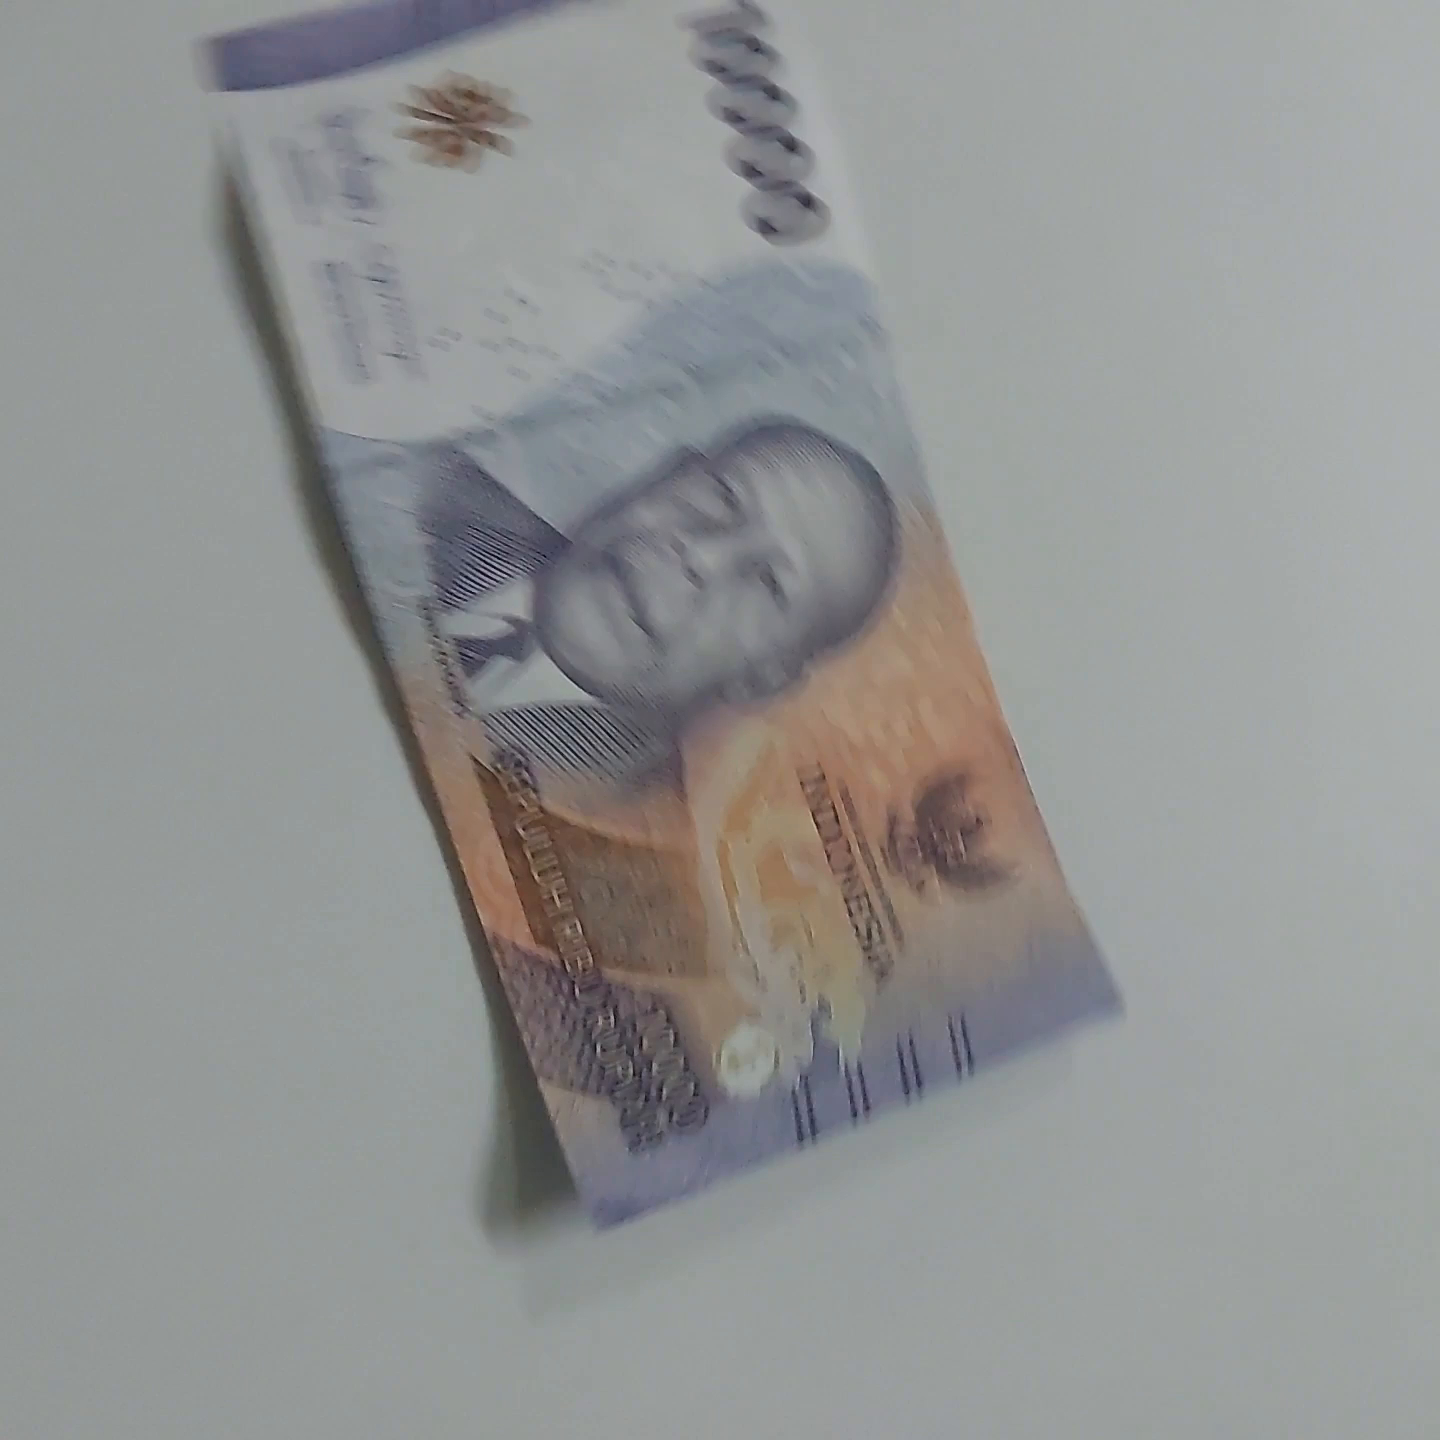10k: (214, 0, 1134, 1254)
